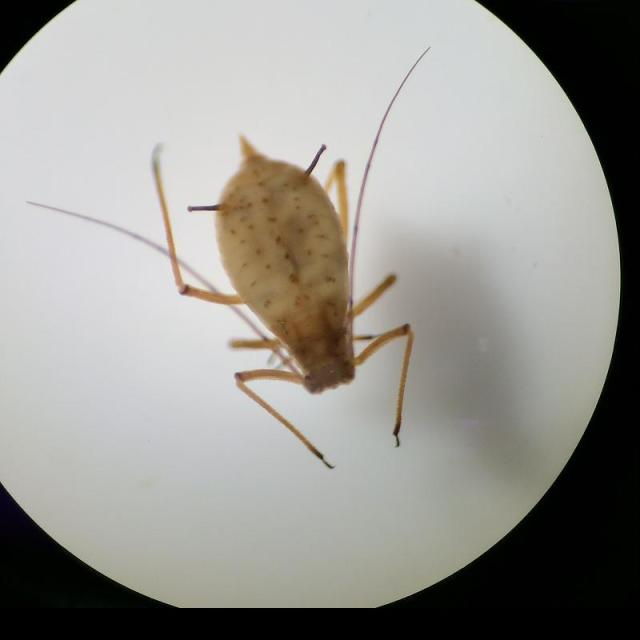Aphids: (137, 124, 425, 470)
